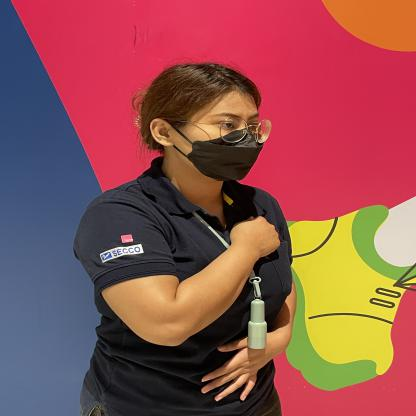Sadness: (152, 196, 294, 303)
